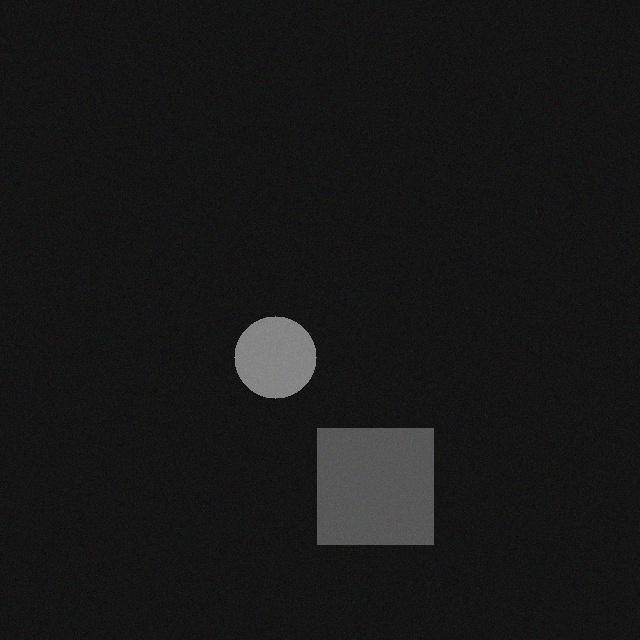circle: (241, 304, 323, 386)
square: (324, 416, 440, 532)
